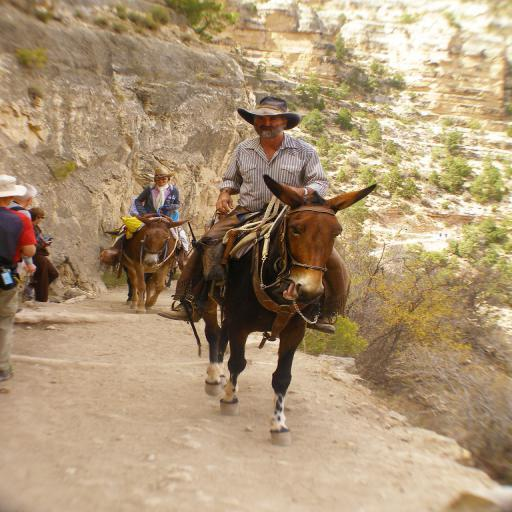horse: (172, 174, 376, 444), (112, 214, 192, 316)
